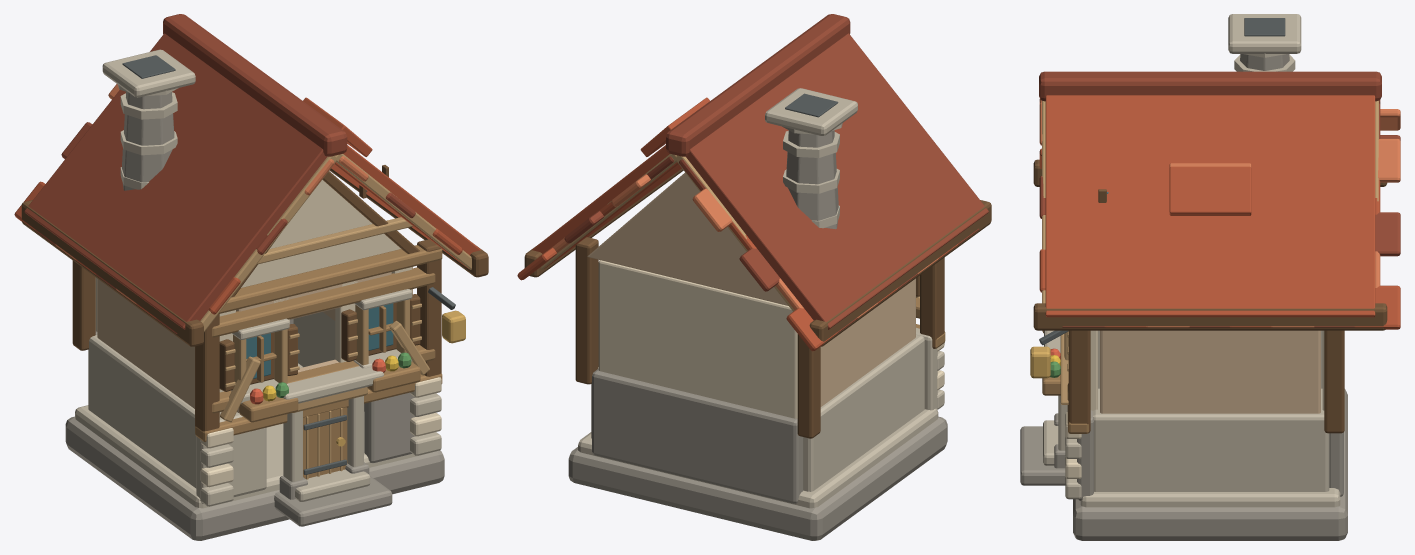
The model's file is medieval_house_after.glb.
3 views of the same model, side by side, from view 1: azimuth 30°, elevation 25°; view 2: azimuth 150°, elevation 25°; view 3: azimuth 270°, elevation 25° (orthographic). The views are drawn at different scales.
Visible parts, largest first — view 1: MedievalHouse_Rebuilt_Geometry; view 2: MedievalHouse_Rebuilt_Geometry; view 3: MedievalHouse_Rebuilt_Geometry.
Boxes of the visible parts, box(x1,y1,x2,y2) form: MedievalHouse_Rebuilt_Geometry: box(14, 14, 488, 540); MedievalHouse_Rebuilt_Geometry: box(517, 14, 991, 540); MedievalHouse_Rebuilt_Geometry: box(1020, 14, 1400, 540).
Bounding box in the file's own units: 2.13 × 2.69 × 2.24.
